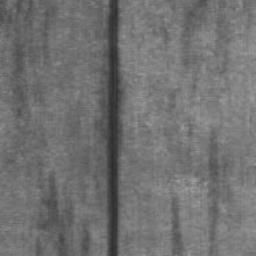Scratches: (103, 0, 121, 256)
